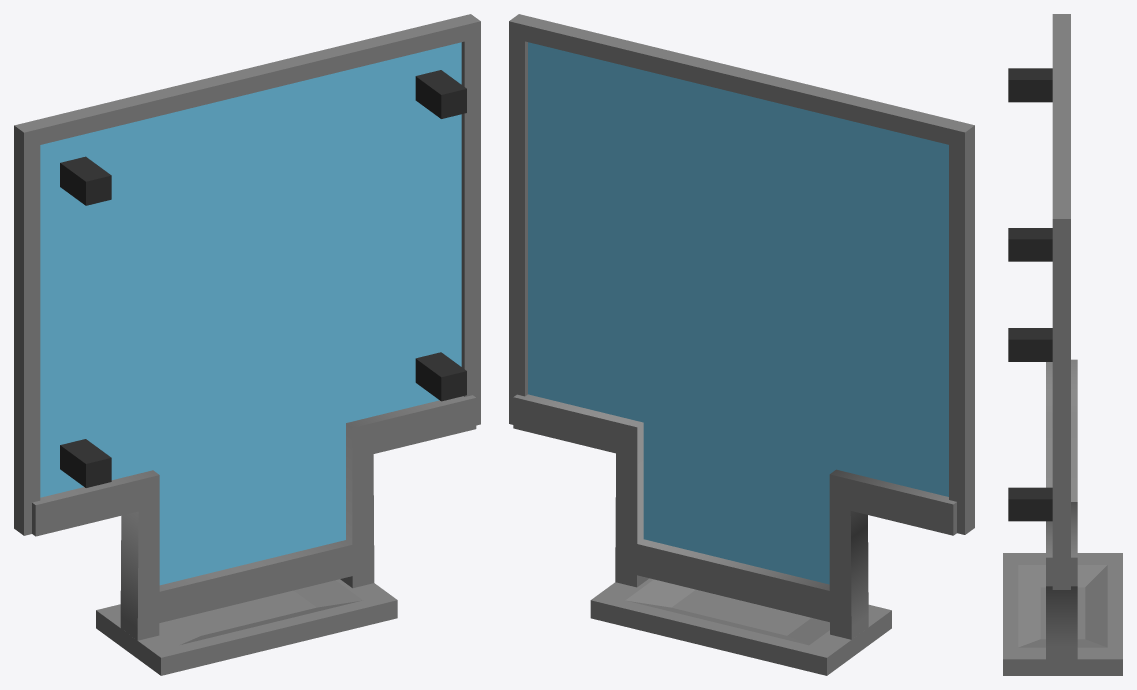
Rendered from TellerDeskBarrier_01.fbx.
3 views of the same model, side by side, from view 1: azimuth 30°, elevation 25°; view 2: azimuth 150°, elevation 25°; view 3: azimuth 270°, elevation 25° (orthographic). The views are drawn at different scales.
Visible parts, largest first — view 1: SM_Prop_TellerDesk_Barrier_Glass_01, SM_Prop_TellerDesk_Barrier_01; view 2: SM_Prop_TellerDesk_Barrier_Glass_01, SM_Prop_TellerDesk_Barrier_01; view 3: SM_Prop_TellerDesk_Barrier_01.
Part boxes in pixels (x1,y1,x2,y2): SM_Prop_TellerDesk_Barrier_Glass_01: (40, 42, 461, 585); SM_Prop_TellerDesk_Barrier_01: (14, 14, 480, 675); SM_Prop_TellerDesk_Barrier_Glass_01: (528, 42, 948, 584); SM_Prop_TellerDesk_Barrier_01: (509, 14, 974, 675); SM_Prop_TellerDesk_Barrier_01: (1003, 14, 1122, 675).
Size of the model in its own units: 1.36 by 1.56 by 0.3356.
